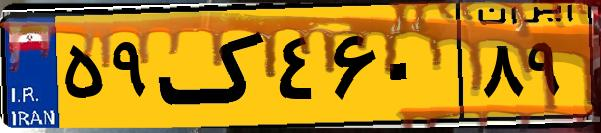0: (385, 28, 445, 110)
4: (270, 28, 330, 110)
5: (57, 26, 110, 100)
6: (330, 28, 385, 110)
8: (475, 38, 525, 113)
9: (525, 38, 570, 115), (110, 28, 158, 98)
ک: (158, 12, 270, 120)
